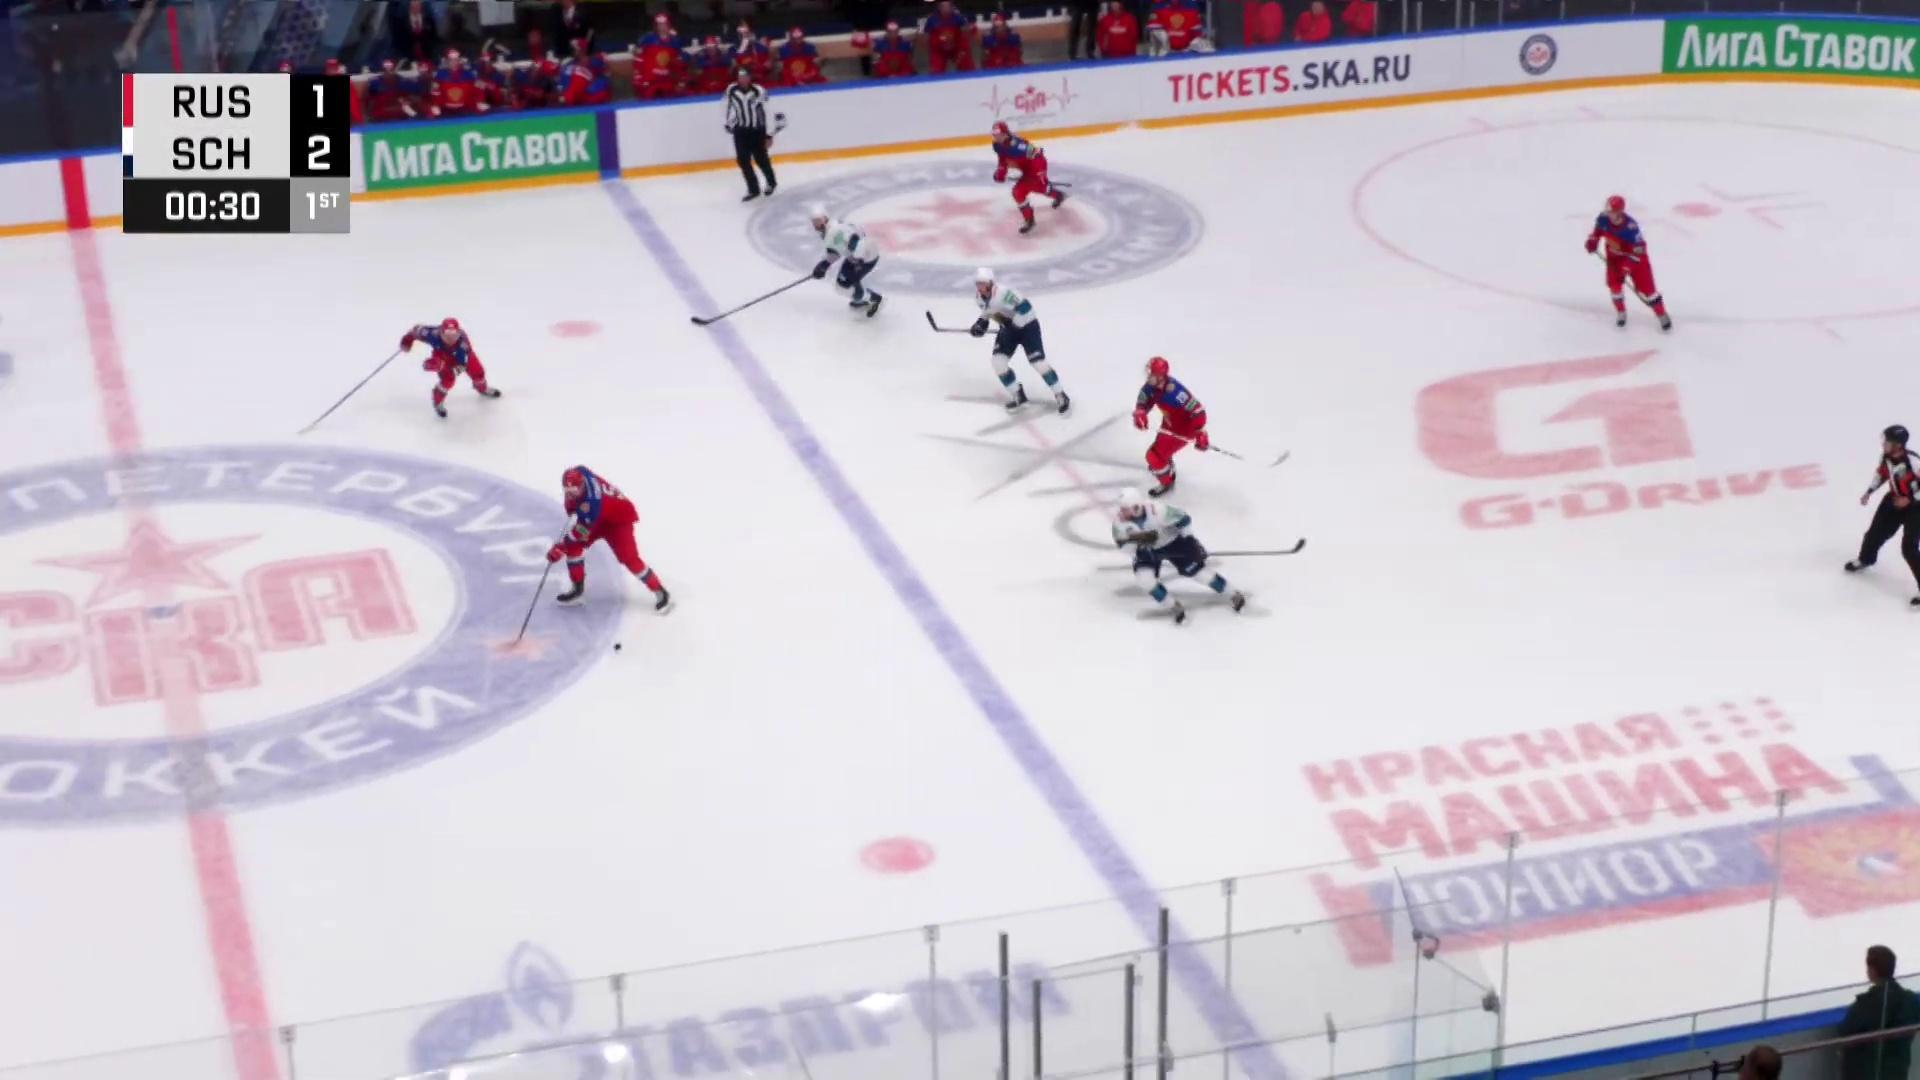ball: (613, 642, 622, 651)
